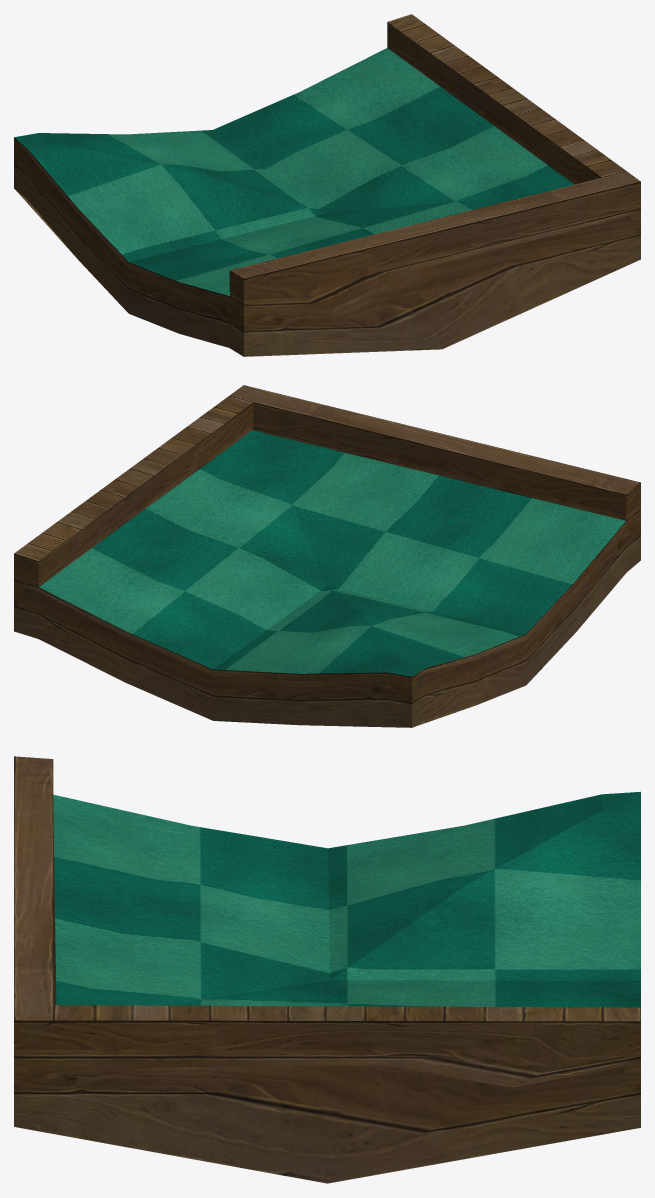
File: Corner_dpath.gltf
3 views of the same model, one above another, from view 1: azimuth 30°, elevation 25°; view 2: azimuth 150°, elevation 25°; view 3: azimuth 270°, elevation 25° (orthographic). The views are drawn at different scales.
Visible parts, largest first — view 1: Corner_dpath_glb; view 2: Corner_dpath_glb; view 3: Corner_dpath_glb.
Part boxes in pixels (box(x1,y1,x2,y2)): Corner_dpath_glb: box(14, 14, 640, 356); Corner_dpath_glb: box(14, 385, 640, 727); Corner_dpath_glb: box(14, 756, 640, 1183).
Size of what is drawn, in the model's own units: 4 by 1.15 by 4.
2 materials, 2 textured.
